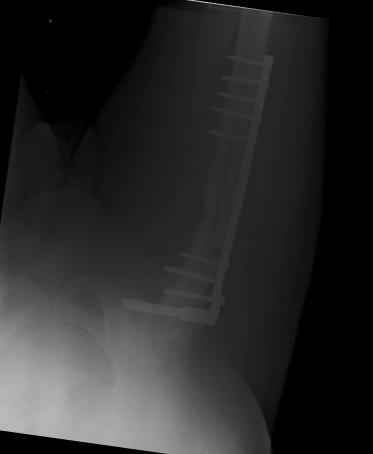fractured: (188, 208, 228, 258)
